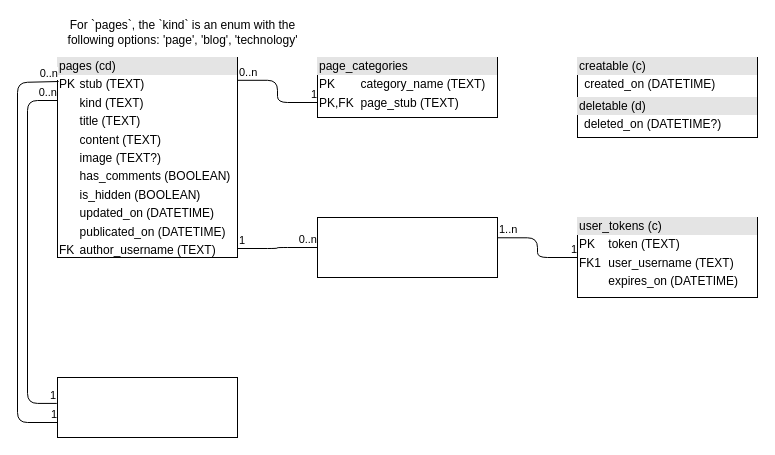
This 775x455 diagram has some shape labels left out. The shapes that lost their labels are listed below. From the top down, each one's centre as x and y in pixels, then its label:
At pixel 407 247: "users (cd) PK username (TEXT) display_name (TEXT?)".
At pixel 147 407: "page_technologies FK1 page_stub (TEXT) FK2 technology_stub (TEXT)".
